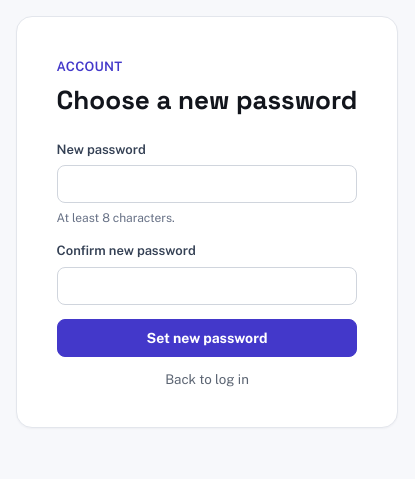
Test case: ResetPassword › catches a mismatched confirmation before spending the single-use token
Type "hunter2222" into the password field labelled "New password".
click(207, 184); type("hunter2222")  # box [57,165,357,203]
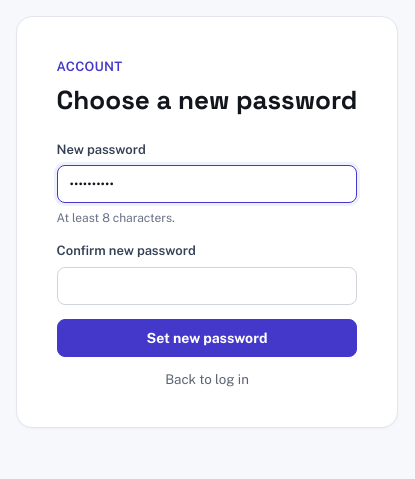
Type "hunter2223" into the password field labelled "Confirm new password".
click(207, 286); type("hunter2223")  # box [57,266,357,304]
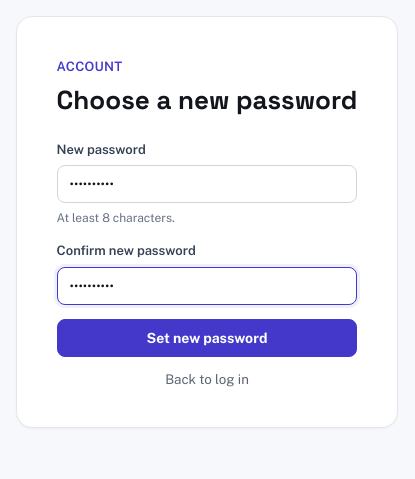
Click the button "Set new password".
click(207, 338)  # box [57,318,357,357]
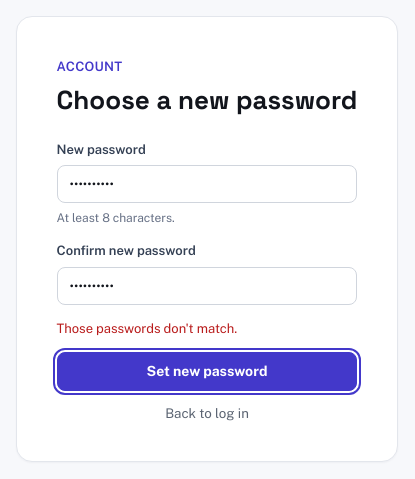
Expected: the text "Those passwords don't match." is shown, [57,320,237,336]
